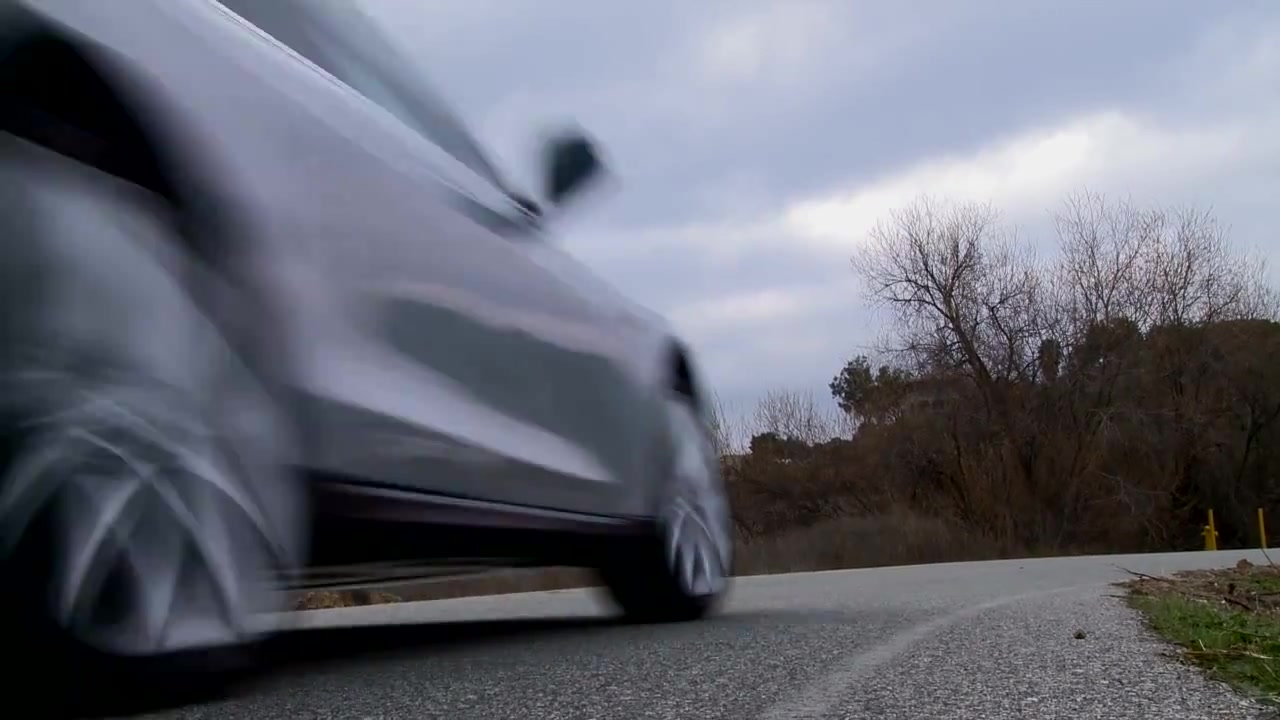car: (3, 1, 740, 720)
